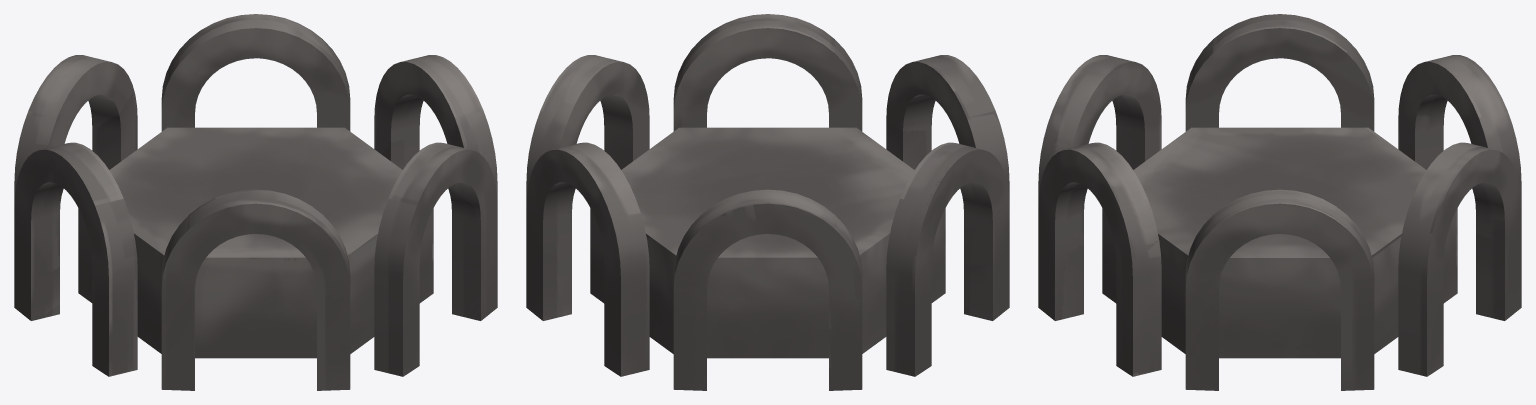
Rendered from photopoint.fbx.
3 renders of one model, left to right at view 1: azimuth 30°, elevation 25°; view 2: azimuth 150°, elevation 25°; view 3: azimuth 270°, elevation 25°, orthographic.
Parts seen in each view (by area): view 1: Cylinder.001; view 2: Cylinder.001; view 3: Cylinder.001.
Part boxes in pixels (x1,y1,x2,y2): Cylinder.001: [14, 14, 497, 390]; Cylinder.001: [526, 14, 1009, 390]; Cylinder.001: [1038, 14, 1521, 390].
Size of the model in its own units: 809 by 372 by 870.
1 material, 1 textured.
